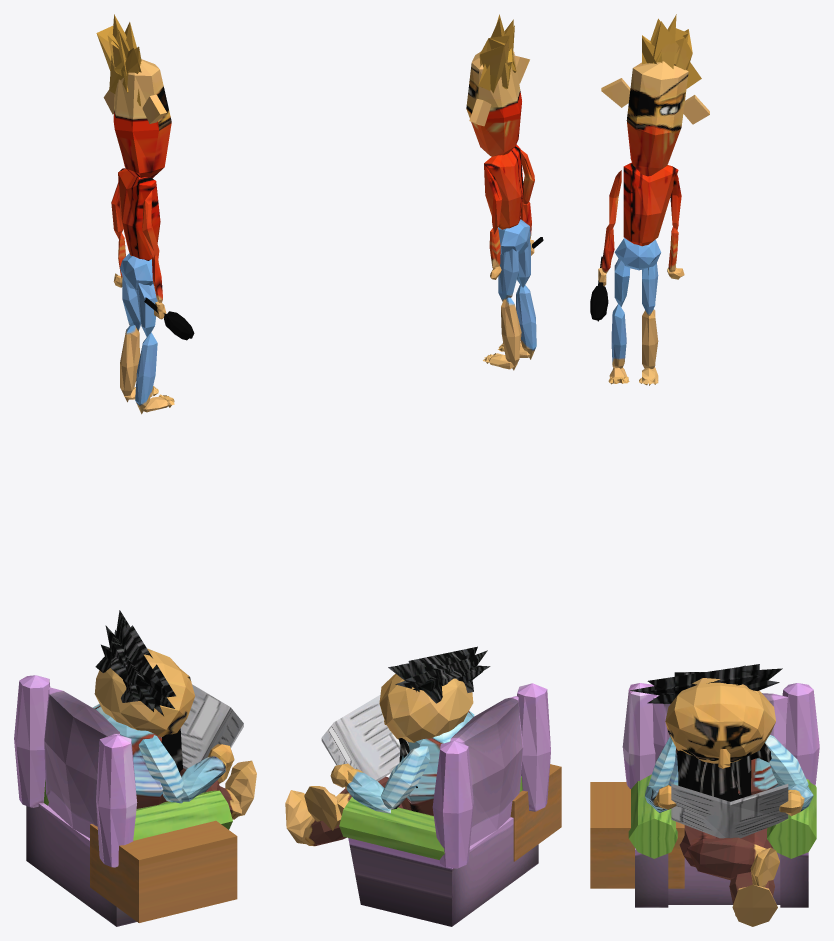
The model's file is Nachche.glb.
The picture shows the model from 3 angles, left to right: view 1: azimuth 30°, elevation 25°; view 2: azimuth 150°, elevation 25°; view 3: azimuth 270°, elevation 25°; orthographic projection. The views are drawn at different scales.
Parts seen in each view (by area): view 1: Nachche; view 2: Nachche; view 3: Nachche.
Part boxes in pixels (x1,y1,x2,y2): Nachche: (14, 14, 256, 926); Nachche: (285, 14, 561, 926); Nachche: (590, 14, 819, 926).
Bounding box in the file's own units: 123 × 492 × 119.
1 material, 1 textured.
